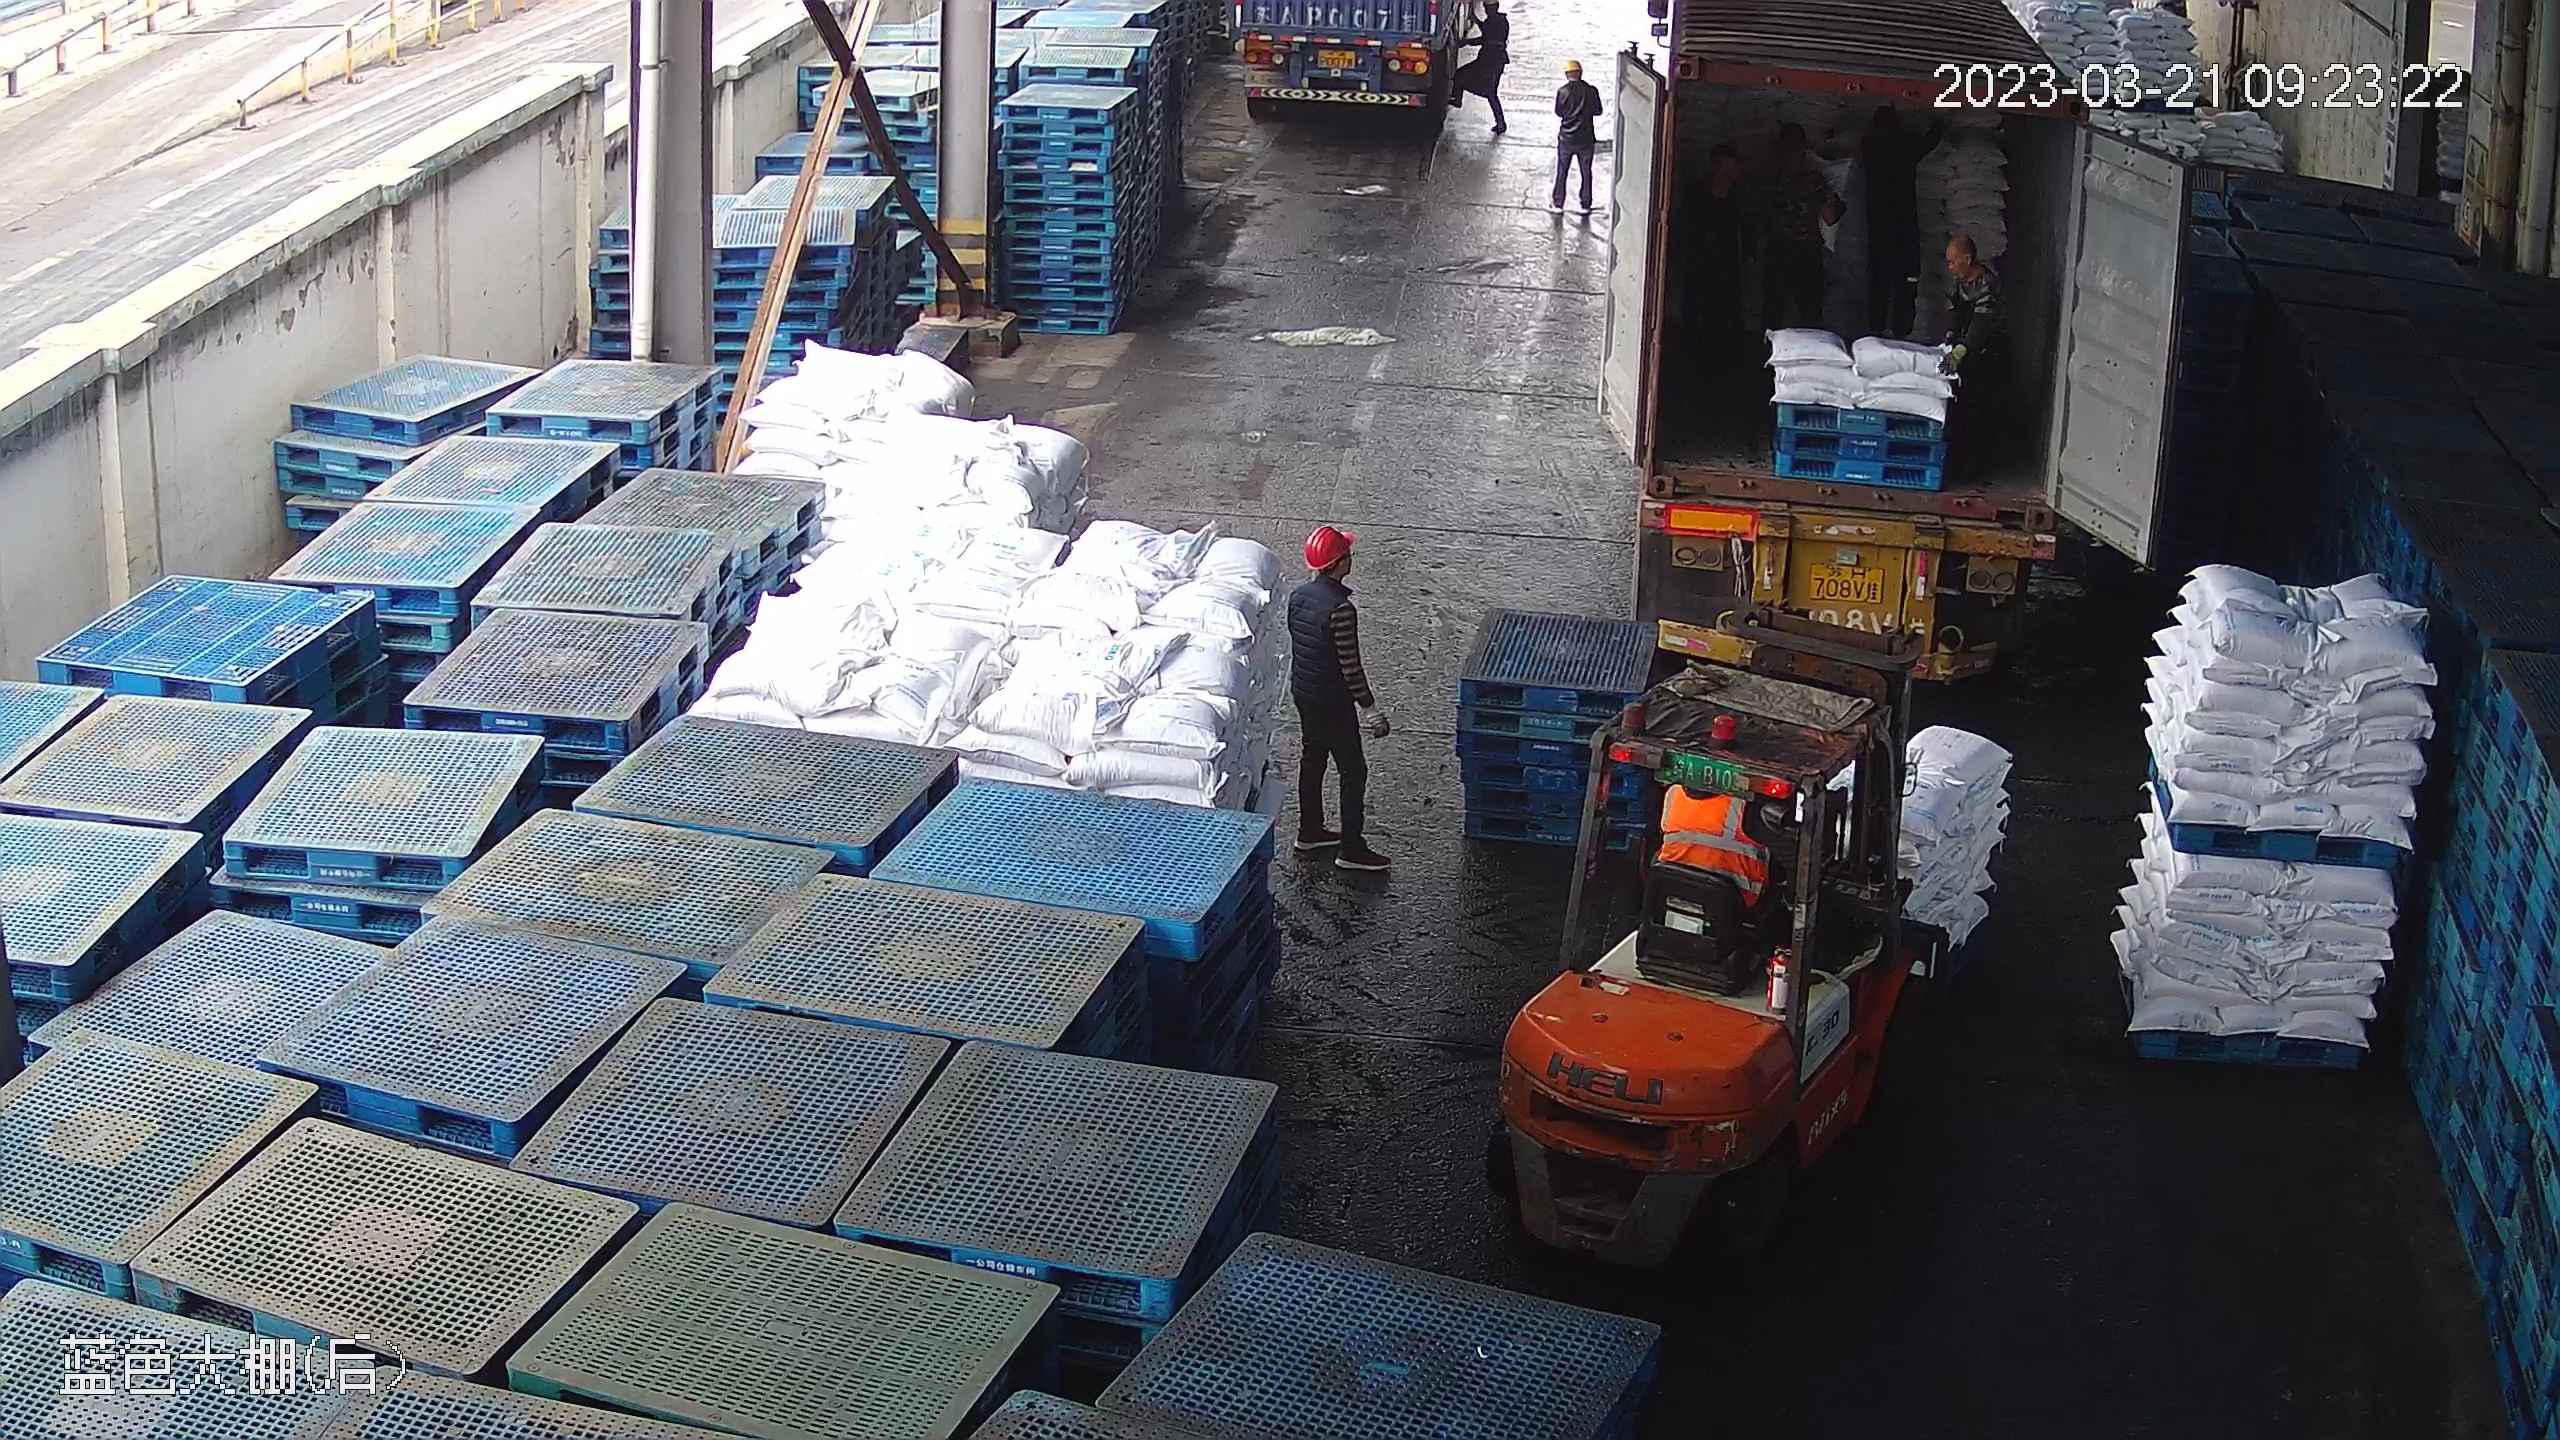belt: (1489, 37, 1508, 52)
head: (1289, 522, 1363, 632), (1689, 140, 1755, 244), (1765, 123, 1828, 216), (1855, 101, 1923, 183), (1942, 231, 2002, 319), (1552, 53, 1599, 105)
helmet: (1306, 522, 1356, 565), (1562, 53, 1585, 71)
people: (1287, 523, 1394, 874), (1756, 121, 1843, 333), (1859, 96, 1928, 342), (1938, 232, 2015, 451), (1689, 140, 1757, 383), (1546, 47, 1606, 223), (1454, 2, 1515, 136)
truck: (1608, 16, 2090, 699)
